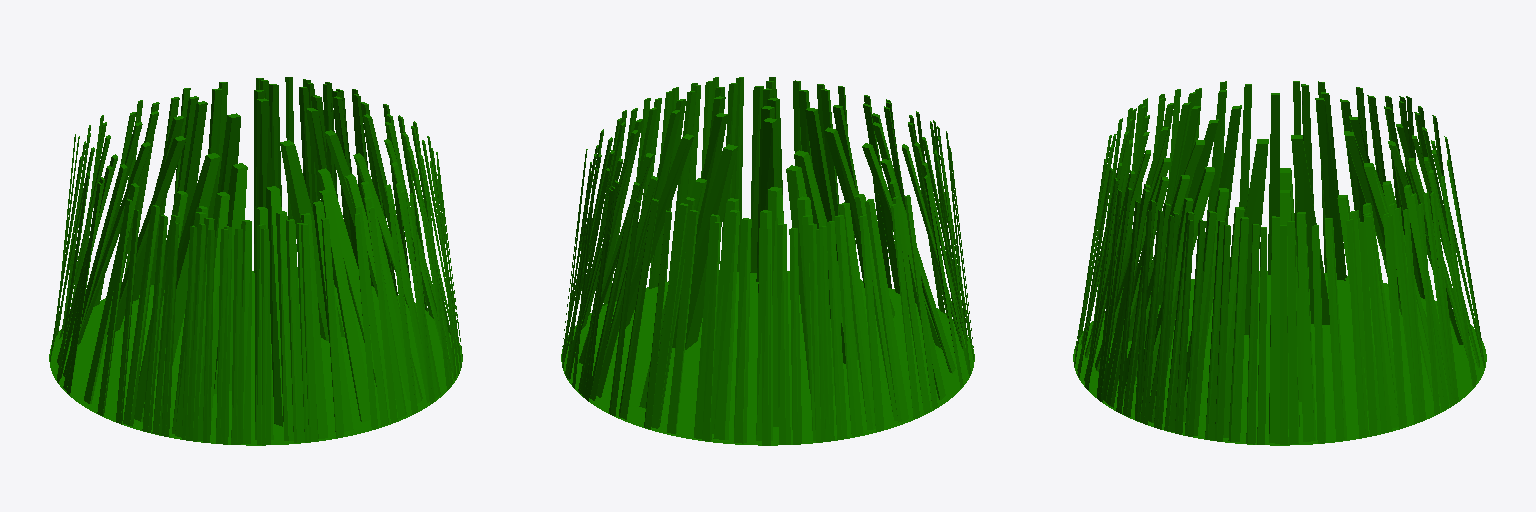
3 views of the same model, side by side, from view 1: azimuth 30°, elevation 25°; view 2: azimuth 150°, elevation 25°; view 3: azimuth 270°, elevation 25° (orthographic).
Visible parts, largest first — view 1: Cube; view 2: Cube; view 3: Cube.
Boxes of the visible parts, box(x1,y1,x2,y2) form: Cube: box(49, 77, 462, 445); Cube: box(561, 77, 974, 445); Cube: box(1073, 81, 1486, 445).
Size of the model in its own units: 5.5 by 3 by 5.5.
Materials: 1 (1 with a texture image).